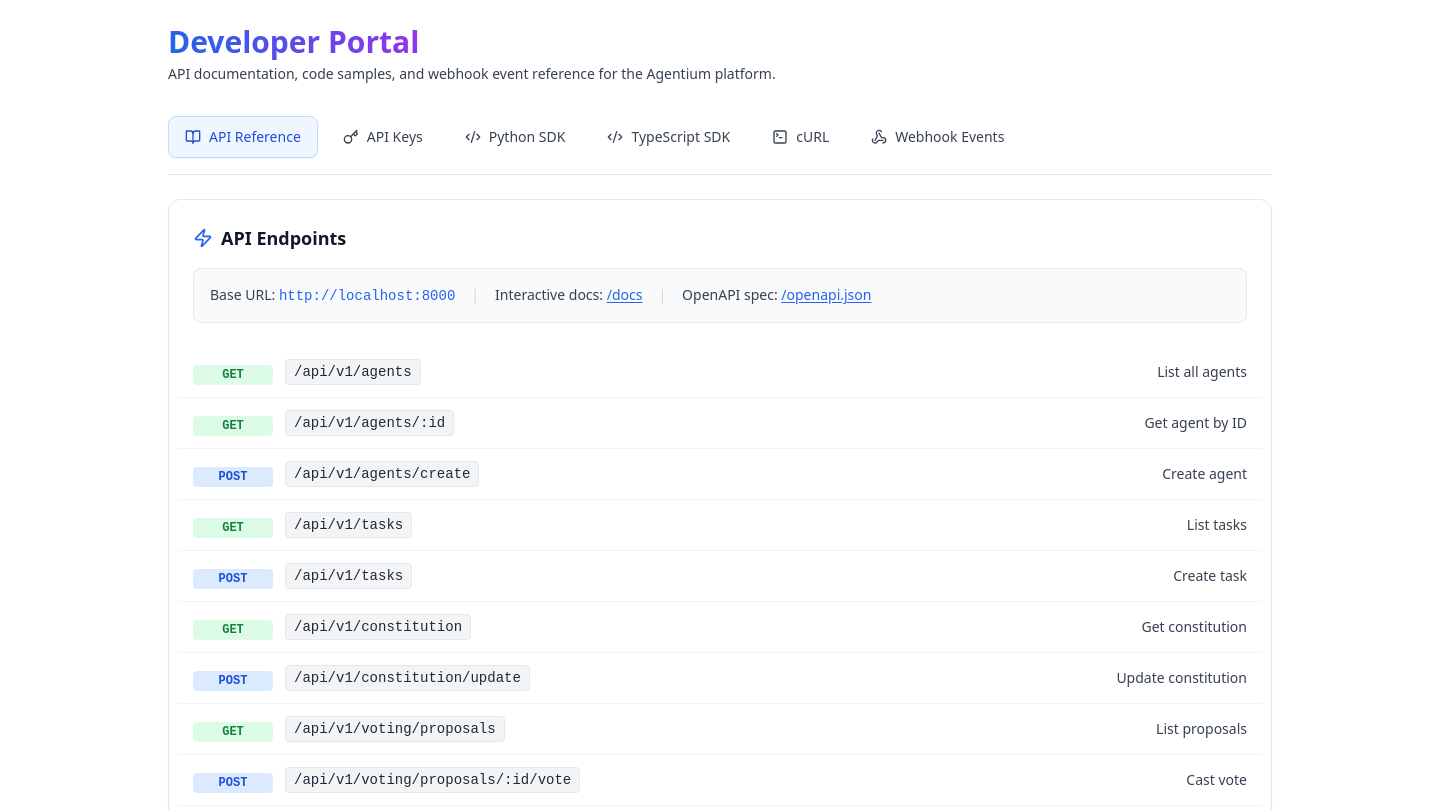
DeveloperPortalPage › switches to API Keys tab and loads keys
Click the button "API Keys".
click(383, 137)  # box [326, 116, 440, 158]
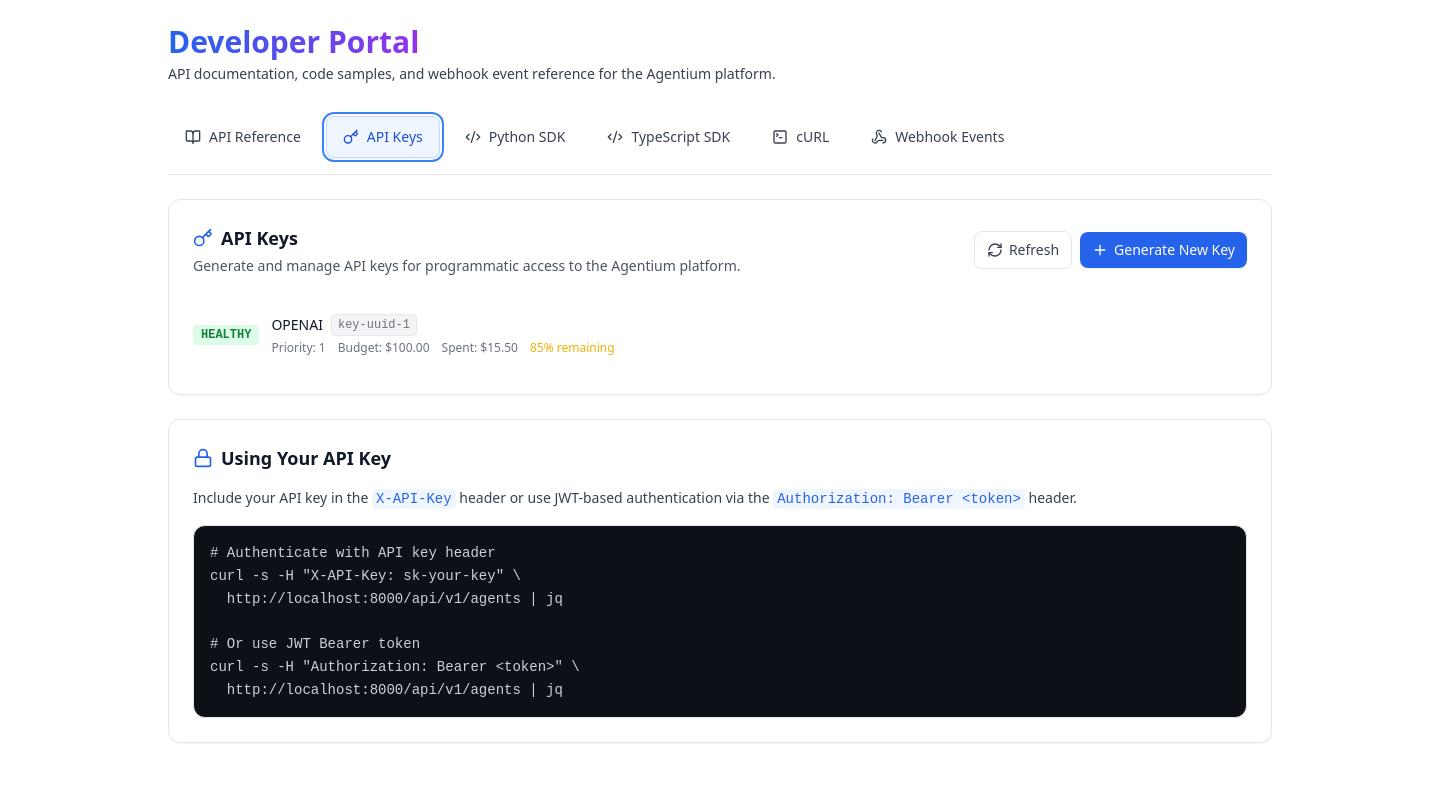
Check: the text "Generate and manage API keys for programmatic access to the Agentium platform." is shown, box [193, 256, 740, 276]
Check: the text "key-uuid-1" is shown, box [331, 314, 417, 336]
Check: the text "HEALTHY" is shown, box [193, 325, 259, 345]
